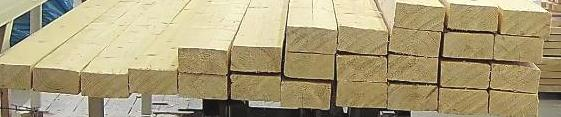Wood-Plank: (391, 27, 441, 56), (178, 47, 228, 75), (444, 31, 494, 59), (442, 60, 492, 88), (492, 64, 542, 92), (496, 34, 544, 63), (285, 27, 336, 54), (231, 74, 280, 102), (282, 81, 330, 109), (286, 52, 335, 79), (389, 56, 438, 83), (490, 90, 539, 117), (390, 84, 439, 111), (503, 9, 552, 36), (339, 26, 386, 54), (395, 2, 442, 30), (338, 81, 388, 107), (129, 68, 177, 95), (440, 88, 489, 114), (337, 56, 387, 81), (179, 73, 227, 99), (81, 72, 129, 98), (231, 46, 279, 72), (452, 4, 498, 31), (33, 67, 79, 92), (0, 66, 29, 89)
